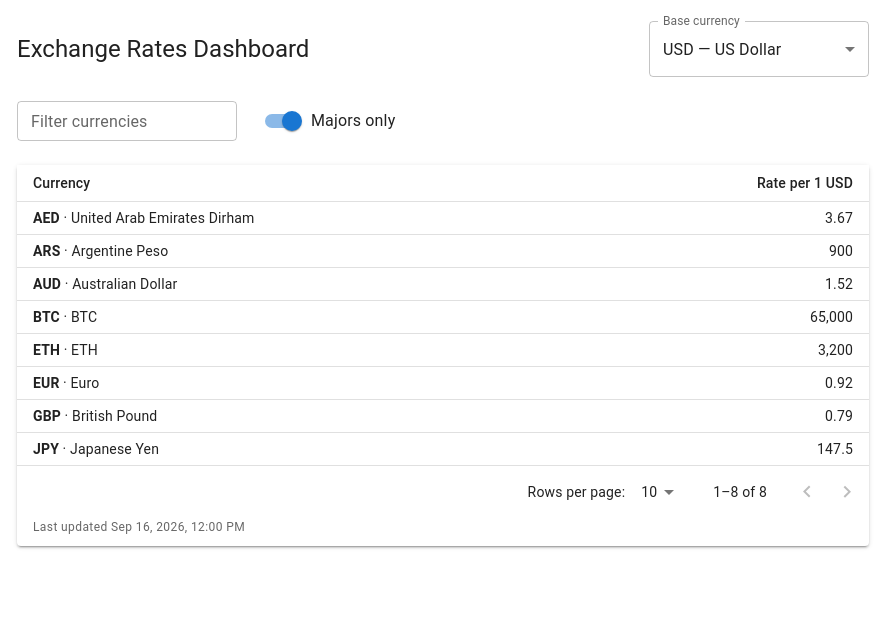
Test: ExchangeRatesPage › shows only major currencies by default and all instruments when the filter is toggled off
Expected: the text "EUR" is shown, [33,375,60,391]
Expected: the text "1INCH" is not shown
Click the switch labelled "Majors only" at {"x": 330, "y": 121}, box [265,111,395,131]
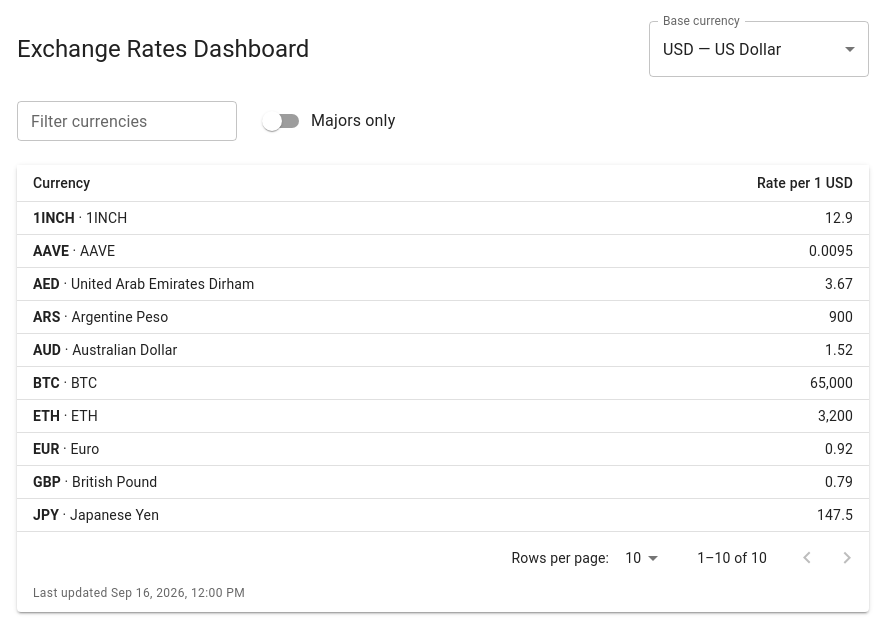
Expected: the text "1INCH" is shown, [33,210,75,226]
Expected: the text "AAVE" is shown, [33,243,69,259]
